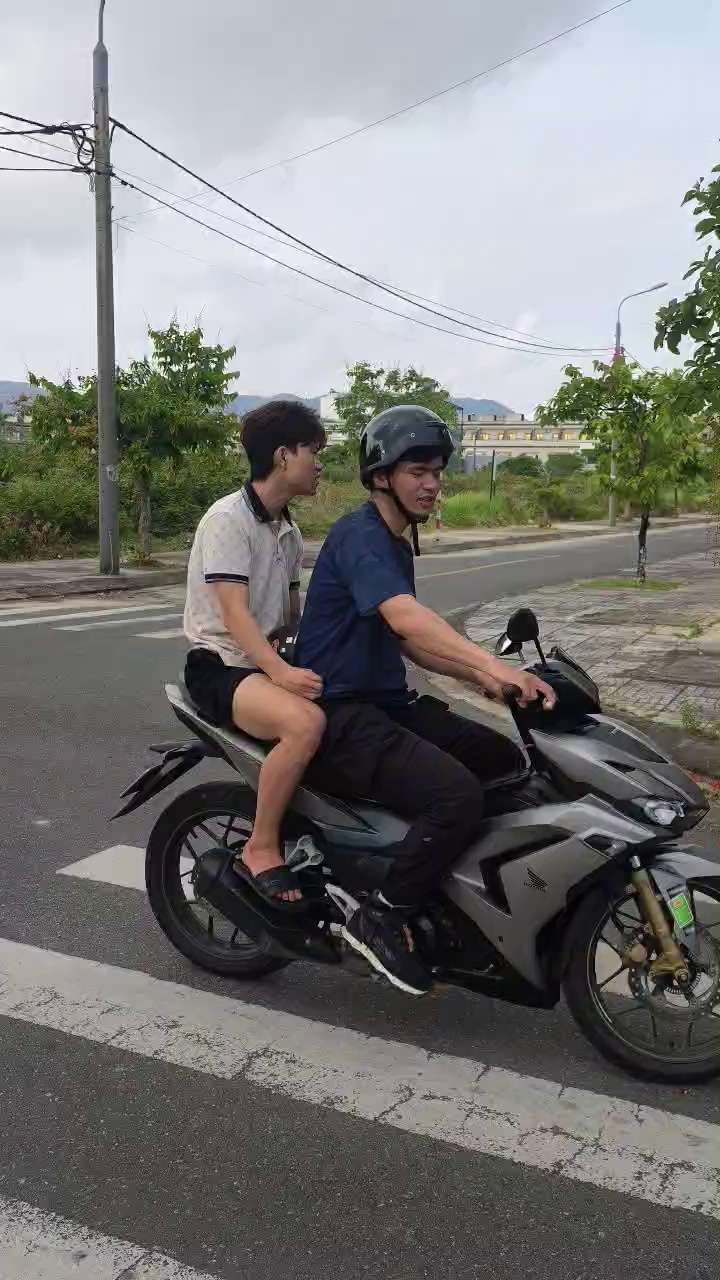helmet: (356, 402, 454, 557)
no_helmet: (237, 399, 328, 516)
